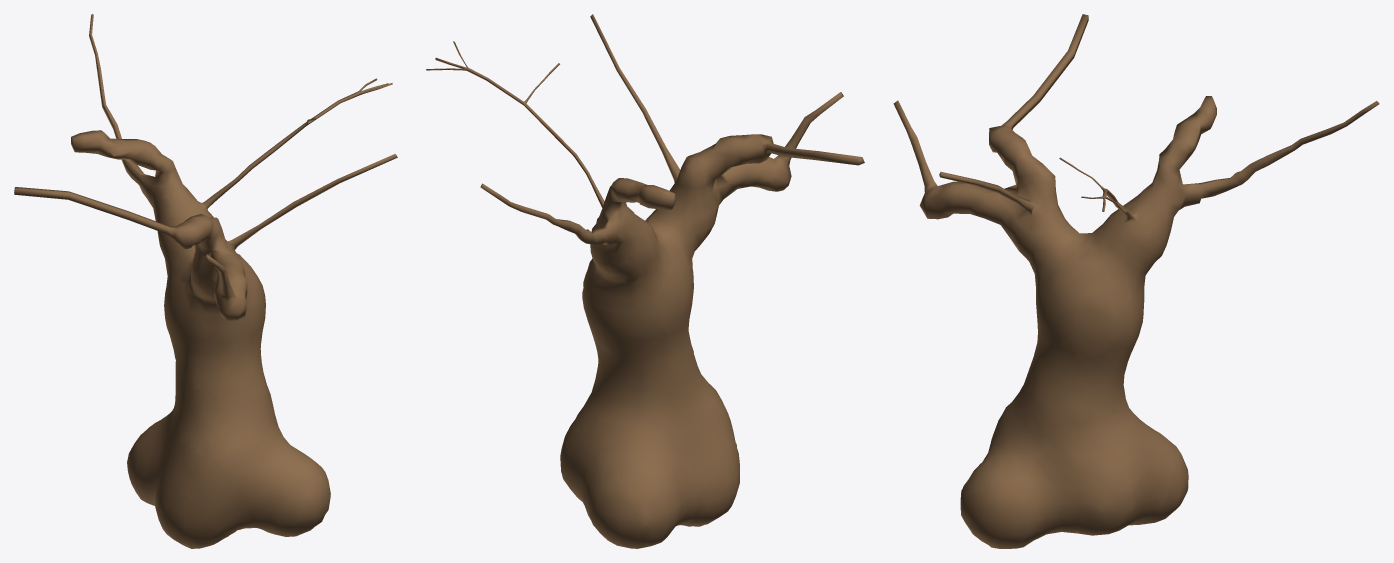
The model's file is arbre.fbx.
The picture shows the model from 3 angles, left to right: view 1: azimuth 30°, elevation 25°; view 2: azimuth 150°, elevation 25°; view 3: azimuth 270°, elevation 25°; orthographic projection. The views are drawn at different scales.
Visible parts, largest first — view 1: tronc.001; view 2: tronc.001; view 3: tronc.001.
Part boxes in pixels (left/top/right/bottom): tronc.001: left=14, top=14, right=397, bottom=548; tronc.001: left=426, top=14, right=864, bottom=548; tronc.001: left=893, top=14, right=1379, bottom=548.
Bounding box in the file's own units: 990 × 1006 × 1004.
